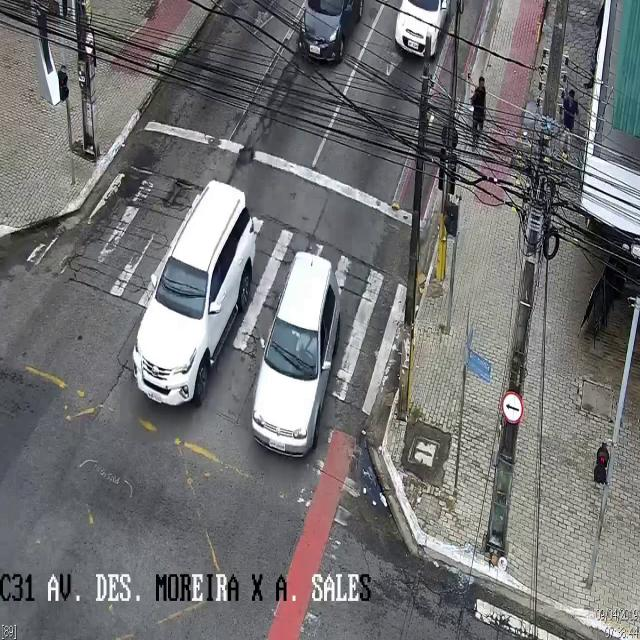Car: (132, 178, 252, 404), (251, 251, 341, 461), (301, 3, 365, 61), (393, 1, 453, 53)
